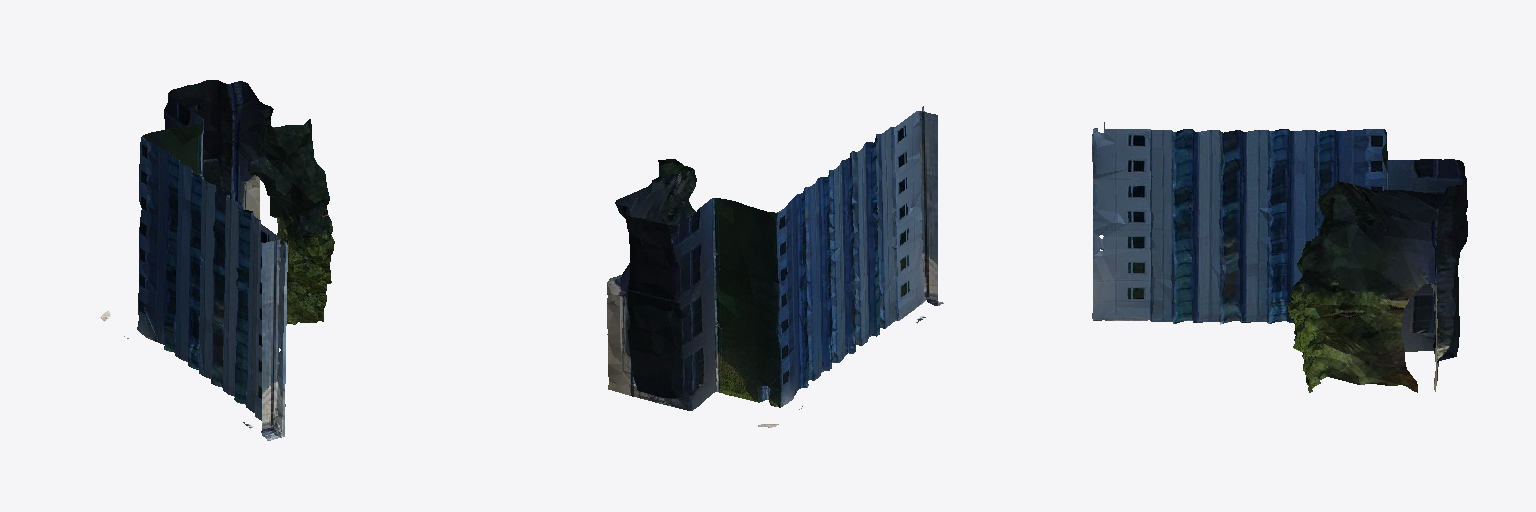
The picture shows the model from 3 angles: view 1: azimuth 30°, elevation 25°; view 2: azimuth 150°, elevation 25°; view 3: azimuth 270°, elevation 25°; orthographic projection.
Parts seen in each view (by area): view 1: obj_0; view 2: obj_0; view 3: obj_0.
Part boxes in pixels (bbox=[...]): obj_0: bbox=[100, 80, 334, 440]; obj_0: bbox=[607, 106, 943, 427]; obj_0: bbox=[1092, 122, 1467, 392].
Size of the model in its own units: 20.08 by 22.53 by 39.79.
Materials: 1 (1 with a texture image).